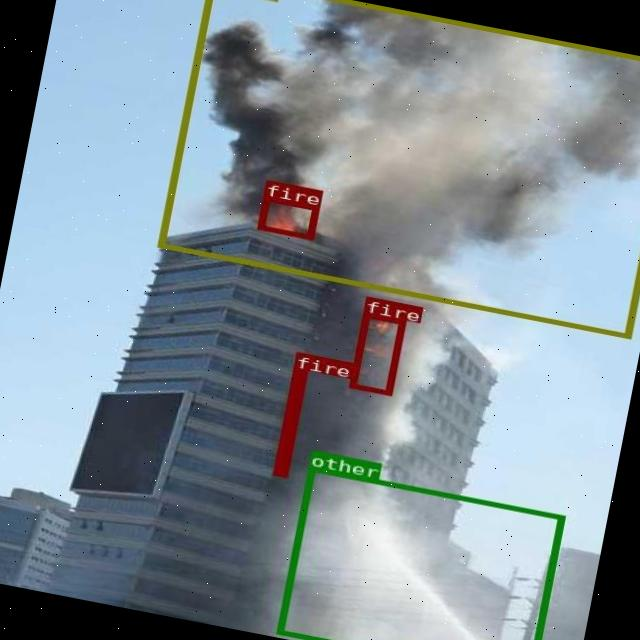fire: (348, 312, 403, 396), (272, 367, 306, 476), (256, 196, 318, 239)
smoke: (158, 0, 640, 338)
